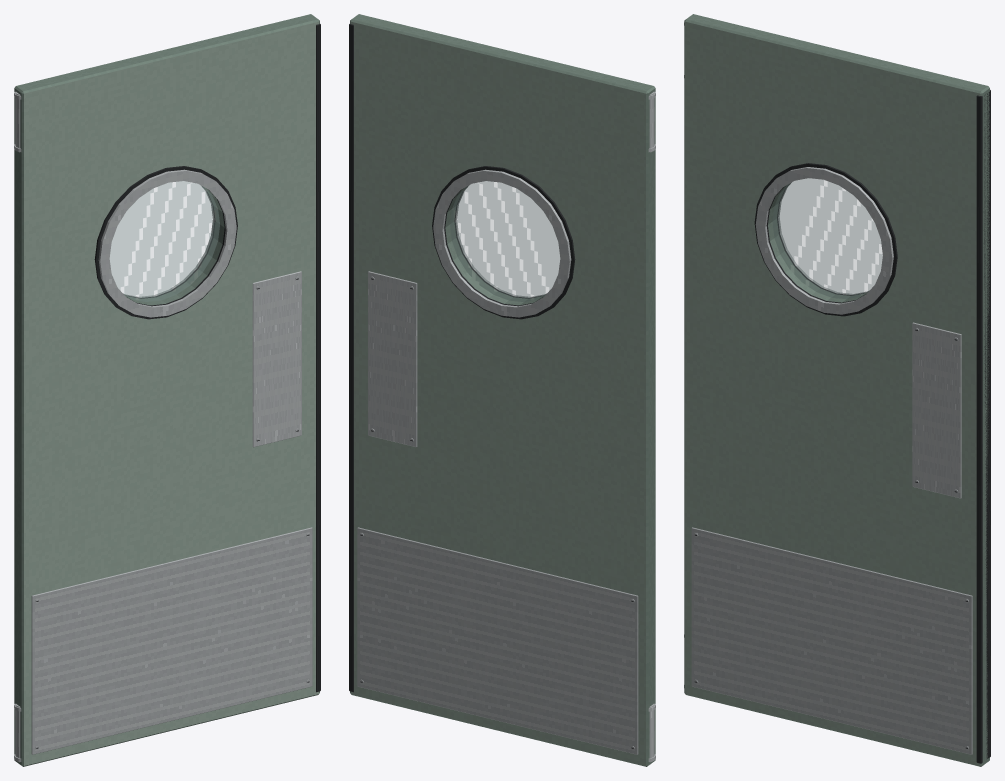
File: door_swing_1.glb
3 renders of one model, left to right at view 1: azimuth 30°, elevation 25°; view 2: azimuth 150°, elevation 25°; view 3: azimuth 330°, elevation 25°, orthographic.
Parts seen in each view (by area): view 1: leaf_body, kick_plate_front, door_glass, push_plate_front, porthole_rim_front, meeting_edge_seal, porthole_gasket_front, double_action_pivots; view 2: leaf_body, kick_plate_back, door_glass, push_plate_back, porthole_rim_back, meeting_edge_seal, porthole_gasket_back, double_action_pivots; view 3: leaf_body, kick_plate_front, door_glass, push_plate_front, meeting_edge_seal, porthole_rim_front, porthole_gasket_front.
Boxes of the visible parts, bbox=[...] form: leaf_body: bbox=[14, 14, 319, 766]; kick_plate_front: bbox=[31, 527, 312, 754]; door_glass: bbox=[110, 181, 219, 301]; push_plate_front: bbox=[252, 271, 301, 447]; porthole_rim_front: bbox=[98, 169, 236, 317]; meeting_edge_seal: bbox=[316, 23, 320, 692]; porthole_gasket_front: bbox=[94, 166, 237, 319]; double_action_pivots: bbox=[14, 91, 21, 762]; leaf_body: bbox=[350, 14, 655, 766]; kick_plate_back: bbox=[357, 527, 638, 754]; door_glass: bbox=[450, 181, 559, 301]; push_plate_back: bbox=[368, 271, 417, 447]; porthole_rim_back: bbox=[433, 169, 571, 317]; meeting_edge_seal: bbox=[349, 23, 353, 692]; porthole_gasket_back: bbox=[432, 166, 575, 319]; double_action_pivots: bbox=[648, 91, 655, 762]; leaf_body: bbox=[684, 14, 989, 766]; kick_plate_front: bbox=[691, 527, 972, 754]; door_glass: bbox=[772, 178, 882, 298]; push_plate_front: bbox=[912, 322, 961, 498]; meeting_edge_seal: bbox=[976, 90, 990, 763]; porthole_rim_front: bbox=[755, 167, 893, 314]; porthole_gasket_front: bbox=[754, 163, 897, 316].
Bounding box in the file's own units: 0.9587 × 2.06 × 0.08.
2 materials, 2 textured.
